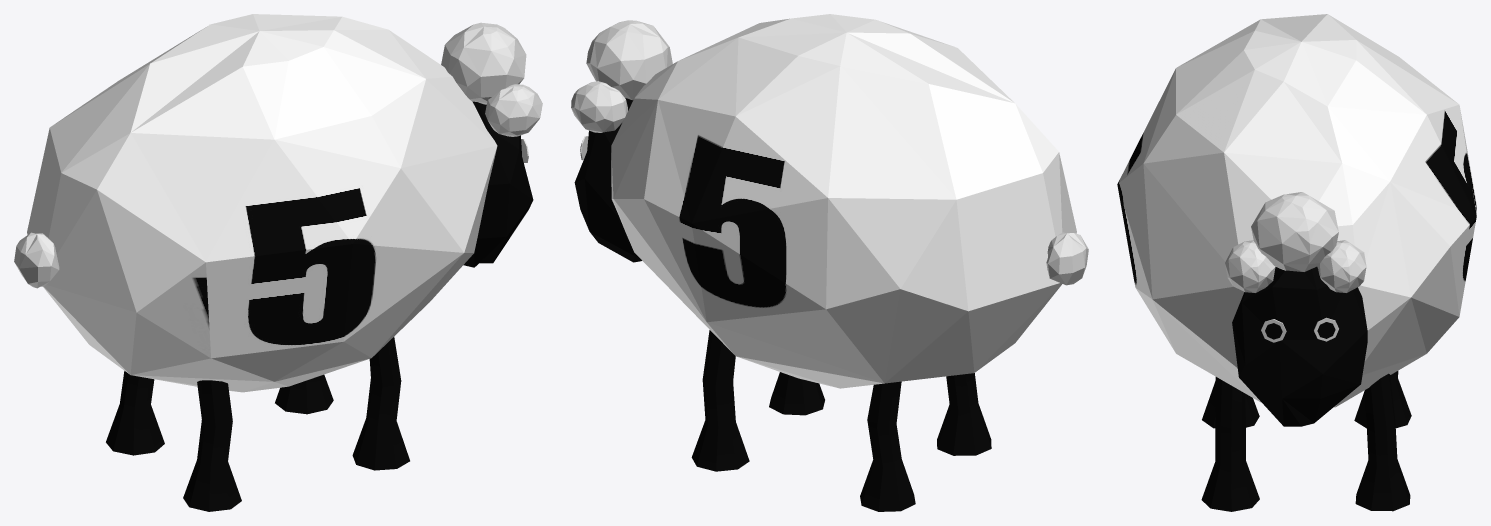
File: sheep5.fbx
The picture shows the model from 3 angles, left to right: view 1: azimuth 30°, elevation 25°; view 2: azimuth 150°, elevation 25°; view 3: azimuth 270°, elevation 25°; orthographic projection.
Parts seen in each view (by area): view 1: pSphere1, pSphere7, pSphere4, pCylinder1, pCylinder5, pCylinder7, pSphere8, pSphere3, pCylinder6; view 2: pSphere1, pCylinder6, pSphere7, pCylinder7, pSphere4, pCylinder1, pSphere9, pSphere3, pCylinder5; view 3: pSphere1, pSphere4, pSphere7, pCylinder5, pCylinder6, pSphere8, pSphere9, pCylinder7, pCylinder1.
Boxes of the visible parts, x1,y1,x2,y2 form: pSphere1: [27, 14, 497, 392]; pSphere7: [441, 22, 526, 104]; pSphere4: [463, 101, 533, 267]; pCylinder1: [183, 380, 241, 511]; pCylinder5: [352, 337, 409, 470]; pCylinder7: [106, 371, 164, 455]; pSphere8: [485, 84, 542, 136]; pSphere3: [14, 232, 59, 288]; pCylinder6: [275, 374, 333, 414]; pSphere1: [611, 14, 1076, 388]; pCylinder6: [691, 330, 749, 471]; pSphere7: [586, 20, 672, 100]; pCylinder7: [860, 381, 915, 511]; pSphere4: [574, 98, 641, 262]; pCylinder1: [937, 373, 991, 455]; pSphere9: [571, 81, 627, 132]; pSphere3: [1046, 232, 1088, 285]; pCylinder5: [769, 372, 824, 415]; pSphere1: [1117, 14, 1476, 407]; pSphere4: [1232, 266, 1367, 426]; pSphere7: [1251, 192, 1338, 271]; pCylinder5: [1201, 378, 1259, 511]; pCylinder6: [1355, 373, 1410, 511]; pSphere8: [1225, 240, 1275, 292]; pSphere9: [1317, 240, 1366, 292]; pCylinder7: [1354, 371, 1411, 428]; pCylinder1: [1202, 377, 1259, 428].
Size of the model in its own units: 3.08 by 2.46 by 1.93.
Materials: 3 (1 with a texture image).
